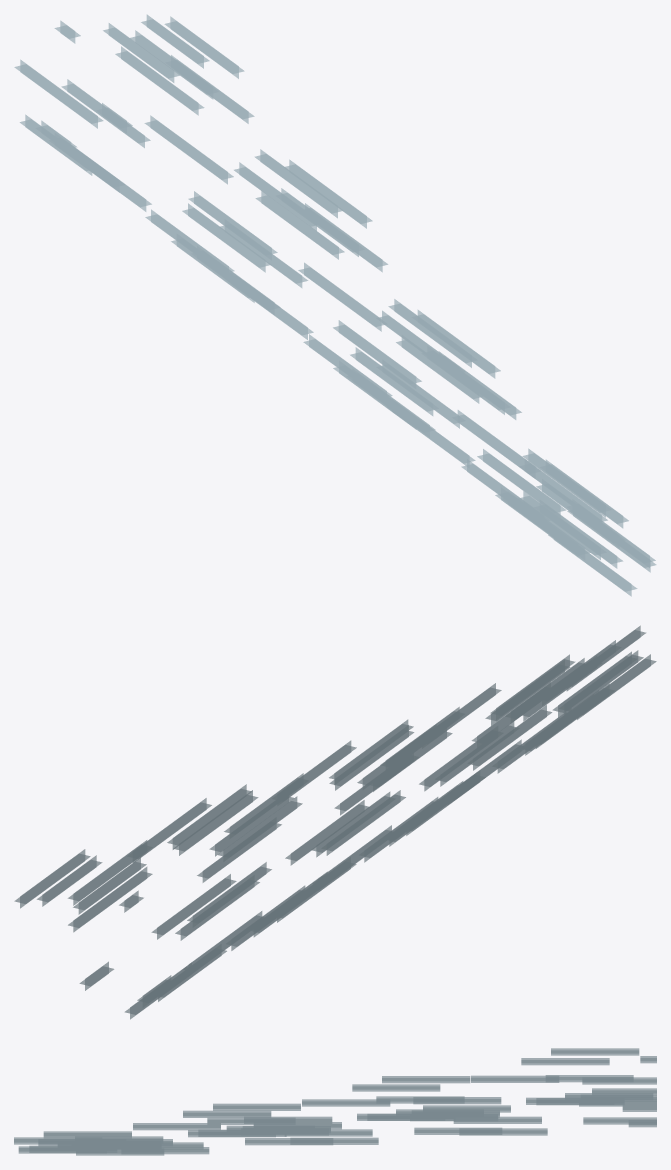
Rendered from wp_water_281.obj.
3 renders of one model, top to bottom at view 1: azimuth 30°, elevation 25°; view 2: azimuth 150°, elevation 25°; view 3: azimuth 270°, elevation 25°, orthographic. The views are drawn at different scales.
Size of the model in its own units: 0.3175 by 0.3097 by 1.75.
1 material, 1 textured.
